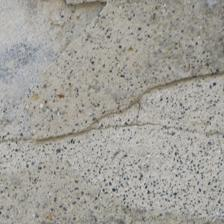Crack: (20, 4, 107, 137), (0, 75, 100, 150), (98, 14, 155, 35)
